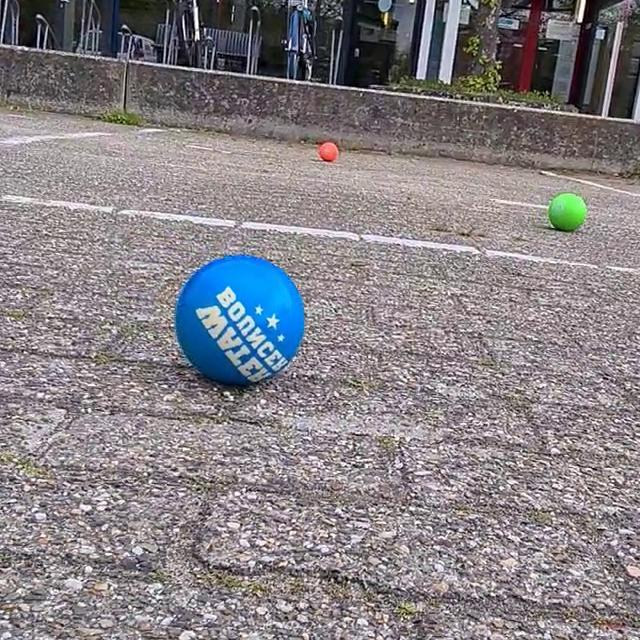ball: (546, 188, 590, 234), (316, 139, 342, 167)
